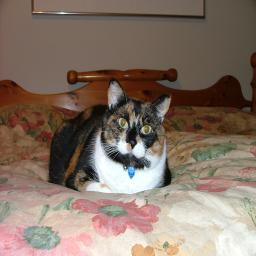catnose: (124, 136, 138, 150)
